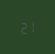one: (27, 20, 34, 33)
two: (19, 20, 26, 34)
